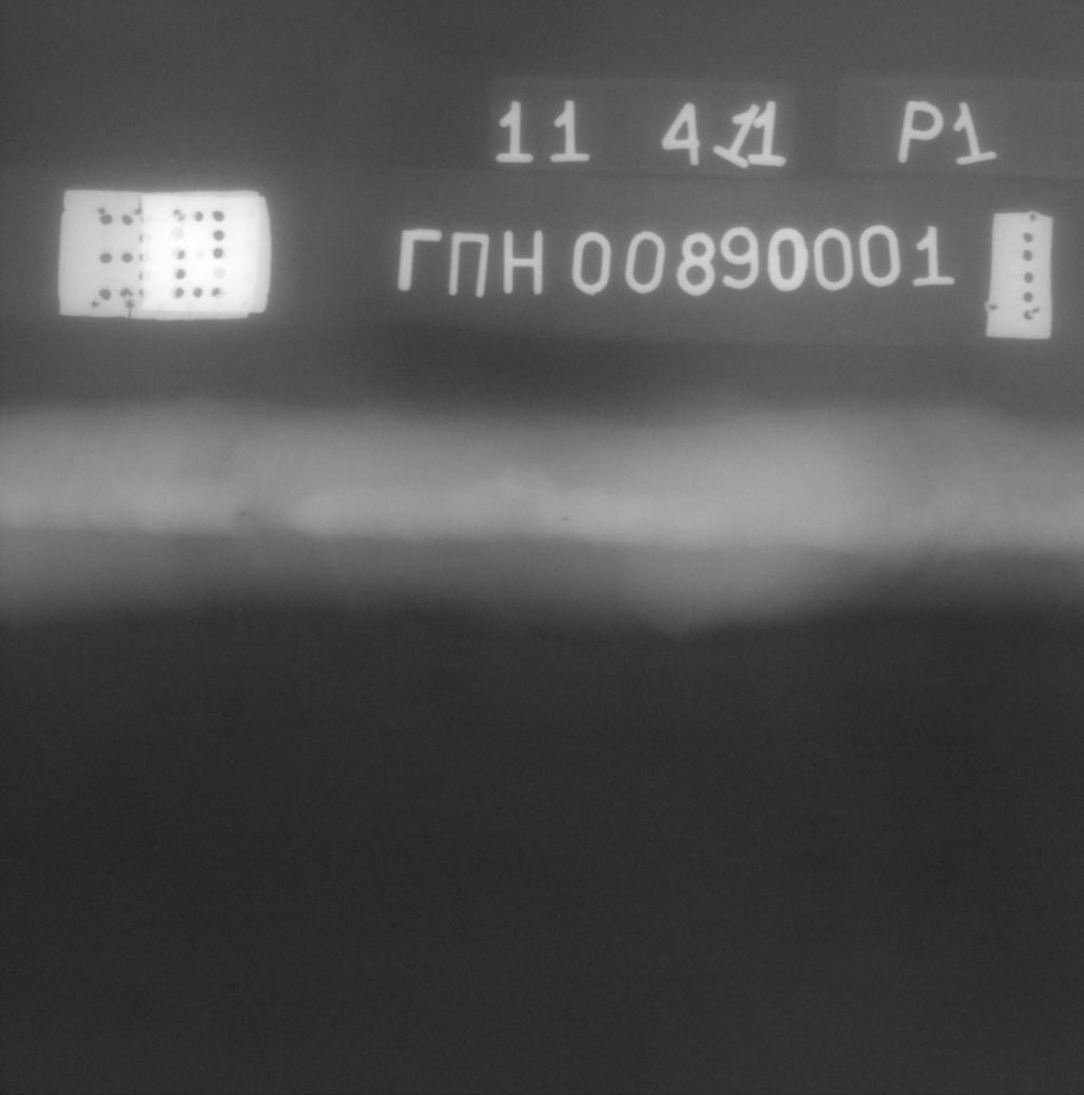Pore/Porosity: (239, 510, 247, 520), (560, 515, 570, 522)
